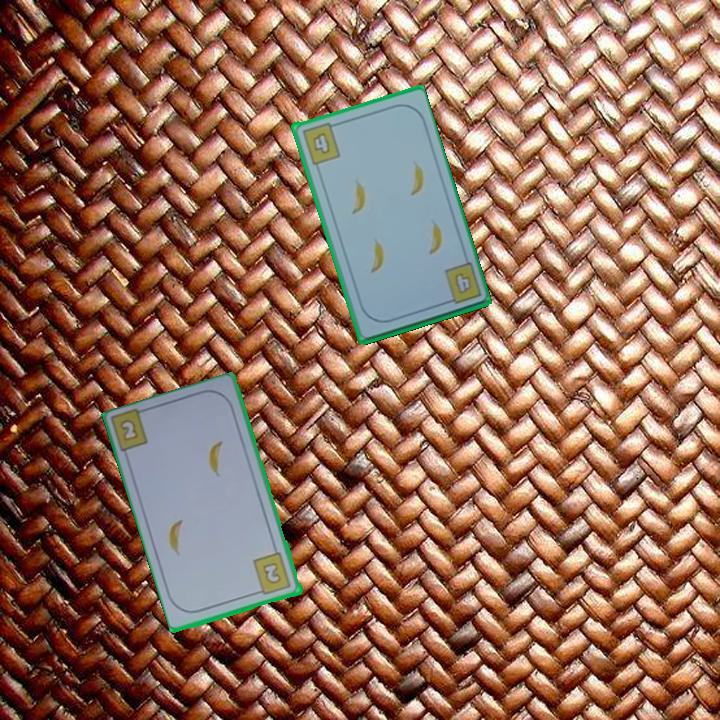2b: (250, 549, 294, 598), (116, 416, 142, 444)
4b: (298, 118, 343, 167), (440, 259, 484, 308)
